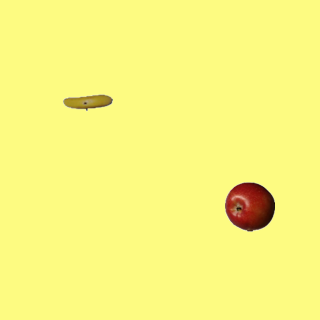Apple Braeburn: (224, 181, 274, 231)
Banana: (62, 77, 112, 127)
